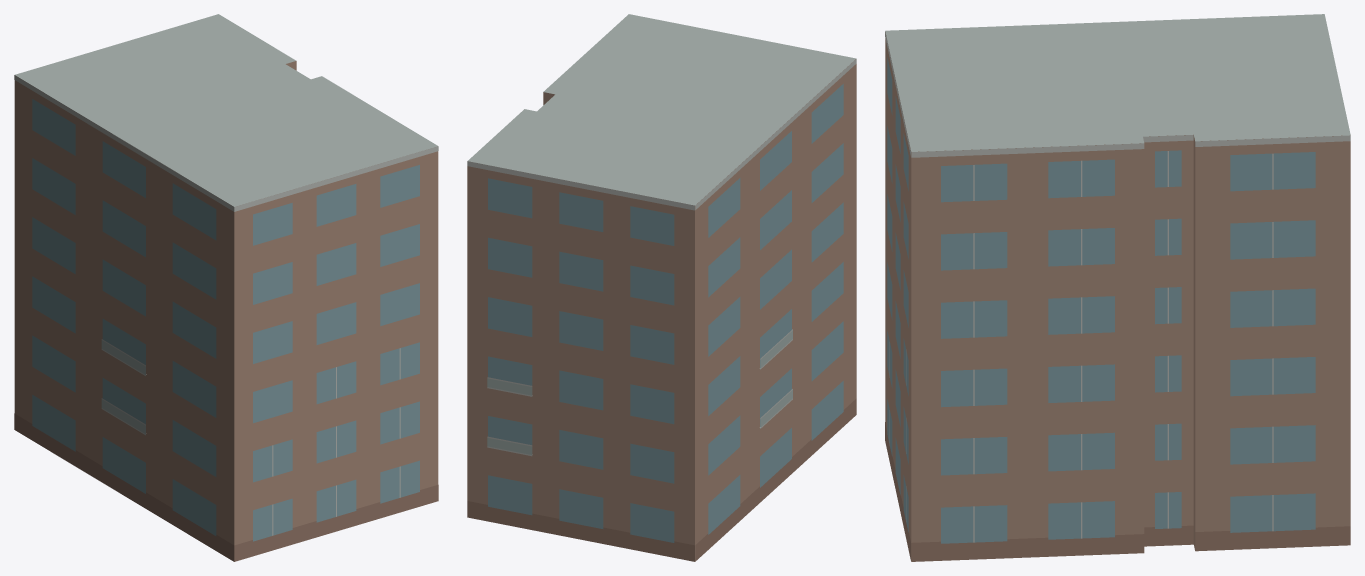
Rendered from survey-upis-32912054.glb.
3 views of the same model, side by side, from view 1: azimuth 30°, elevation 25°; view 2: azimuth 150°, elevation 25°; view 3: azimuth 270°, elevation 25° (orthographic). The views are drawn at different scales.
Parts seen in each view (by area): view 1: survey-upis-32912054.tmp; view 2: survey-upis-32912054.tmp; view 3: survey-upis-32912054.tmp.
Part boxes in pixels (x1=…): survey-upis-32912054.tmp: x1=14, y1=14, x2=438, y2=561; survey-upis-32912054.tmp: x1=467, y1=14, x2=856, y2=561; survey-upis-32912054.tmp: x1=885, y1=14, x2=1350, y2=561.
Size of the model in its own units: 12.51 by 17.3 by 17.82.
